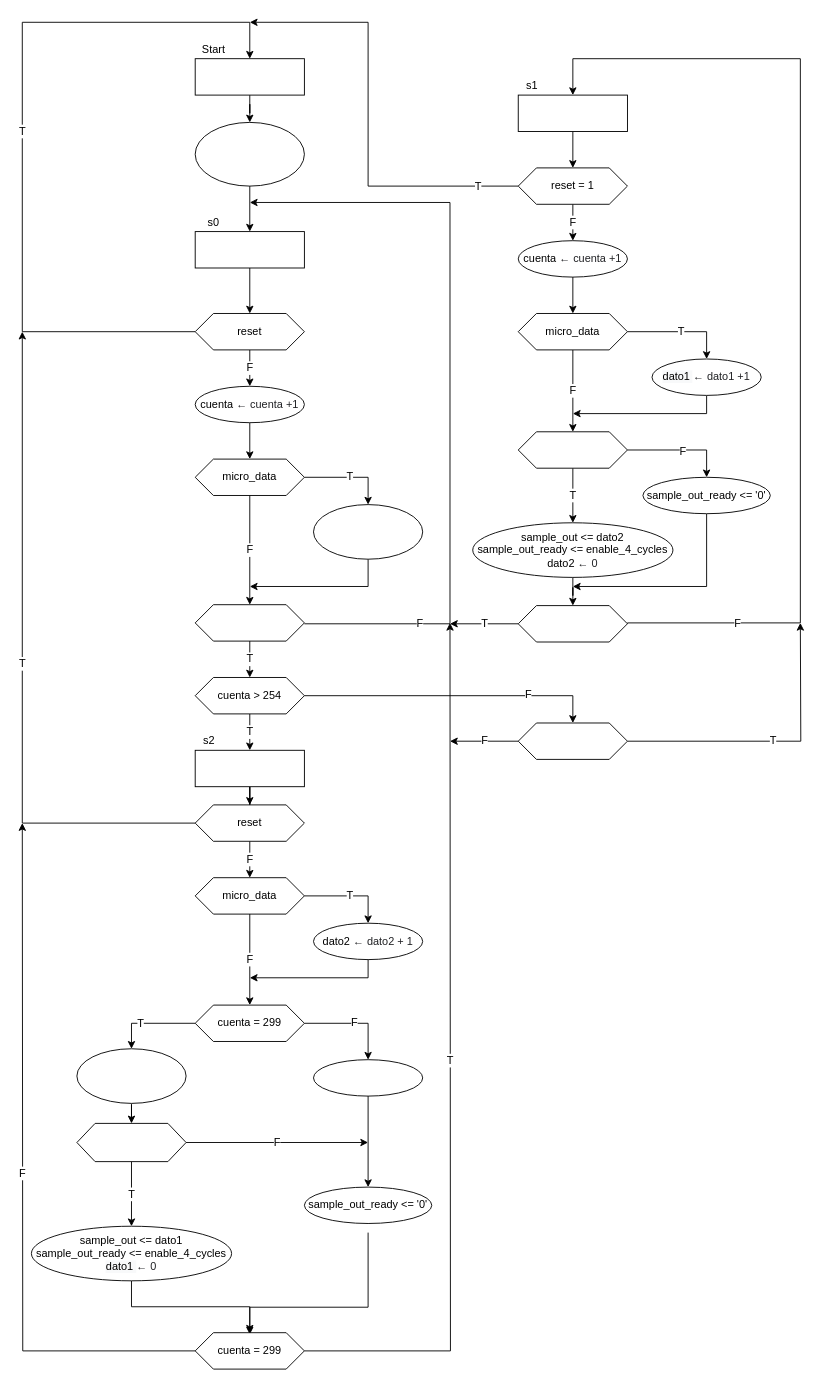
The diagram is 824 pixels wide and 1385 high, and some of its shapes have lost their labels. Each missing label, with the centre of its shape:
cuenta < 150: point (572, 740)
cuenta = 149: point (572, 623)
cuenta = 256: point (131, 1142)
cuenta > 104: point (249, 622)
cuenta ← 0 primer_ciclo ← 0 dato1 ← 0 dato2 ← 0: point (249, 153)
cuenta ← 0 primer_ciclo ← 1: point (131, 1075)
cuenta ← cuenta + 1: point (368, 1077)
dato1 ← dato1 + 1 dato2 ← dato2 + 1: point (368, 531)
primer_ciclo & cuenta = 106: point (572, 449)
